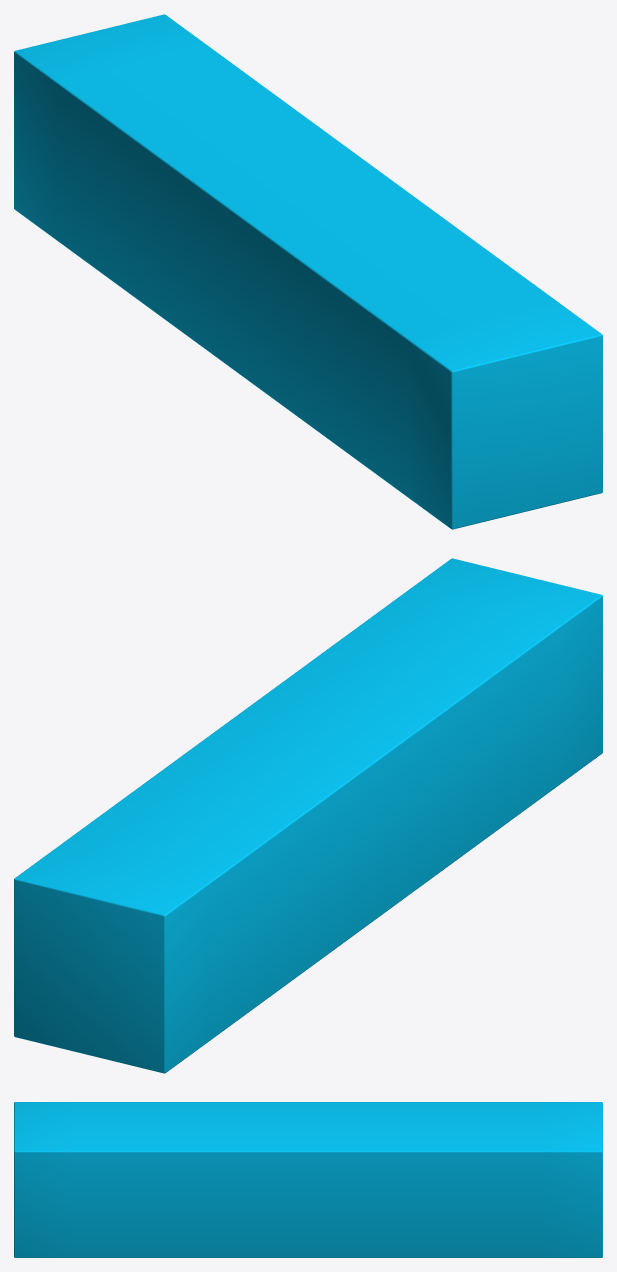
The model's file is blueBlock.fbx.
The picture shows the model from 3 angles, top to bottom: view 1: azimuth 30°, elevation 25°; view 2: azimuth 150°, elevation 25°; view 3: azimuth 270°, elevation 25°; orthographic projection. The views are drawn at different scales.
Parts seen in each view (by area): view 1: Blue_Block; view 2: Blue_Block; view 3: Blue_Block.
Part boxes in pixels (x1,y1,x2,y2): Blue_Block: [14, 14, 602, 529]; Blue_Block: [14, 558, 602, 1073]; Blue_Block: [14, 1102, 602, 1257].
Size of the model in its own units: 100 by 100 by 500.
